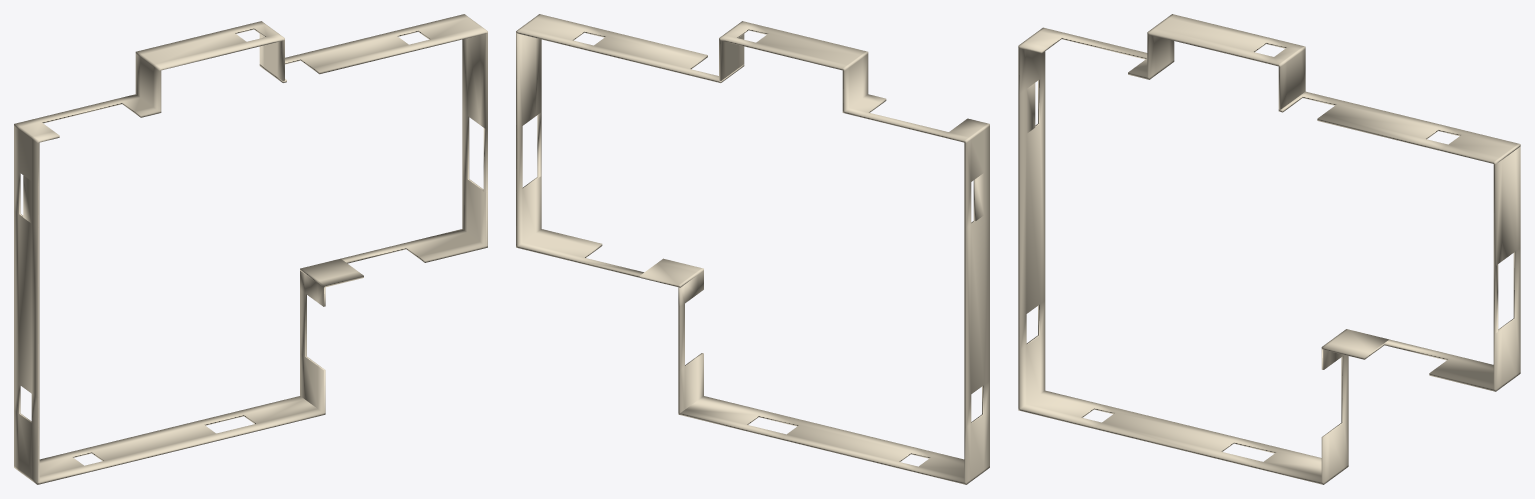
Rendered from wall_5_2_outside_base__total_v1.fbx.
The picture shows the model from 3 angles, left to right: view 1: azimuth 30°, elevation 25°; view 2: azimuth 150°, elevation 25°; view 3: azimuth 330°, elevation 25°; orthographic projection. The views are drawn at different scales.
Visible parts, largest first — view 1: Cube; view 2: Cube; view 3: Cube.
Part boxes in pixels (x1=…): Cube: x1=14, y1=14, x2=487, y2=484; Cube: x1=516, y1=14, x2=989, y2=484; Cube: x1=1018, y1=14, x2=1520, y2=484.
Size of the model in its own units: 0.111 by 0.091 by 0.01.
